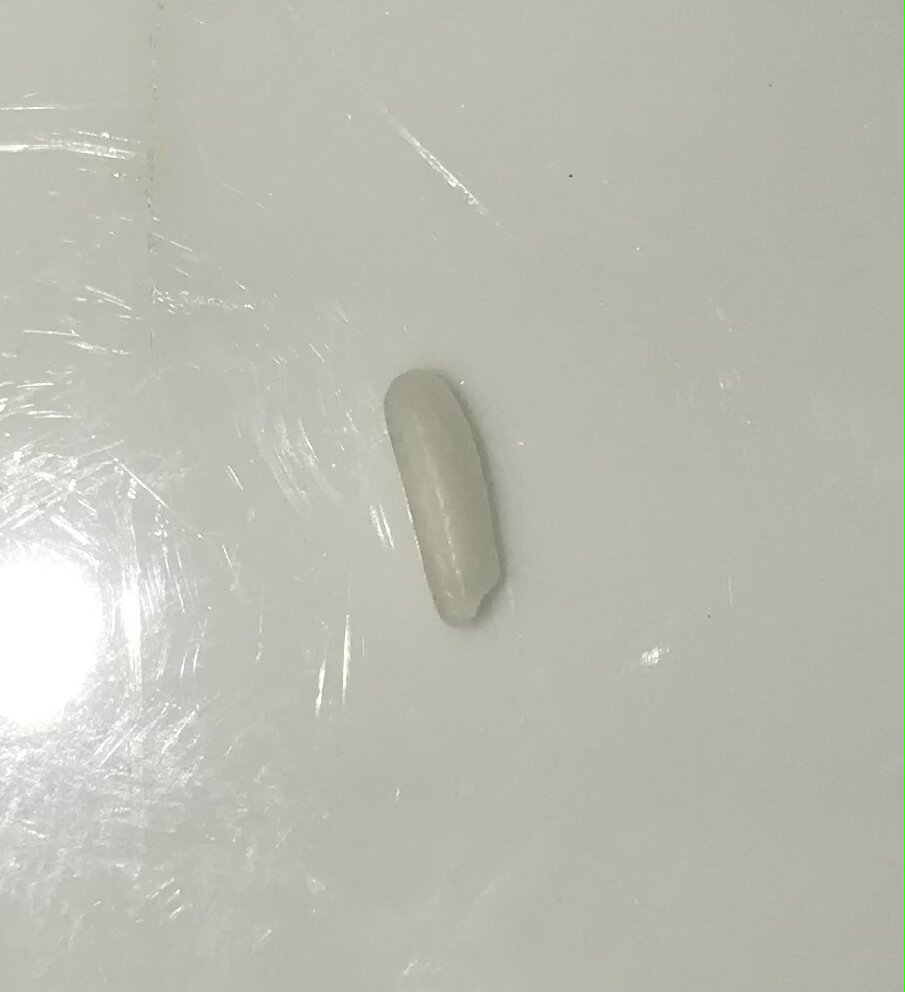Gao Lai Sua: (378, 363, 528, 635)
